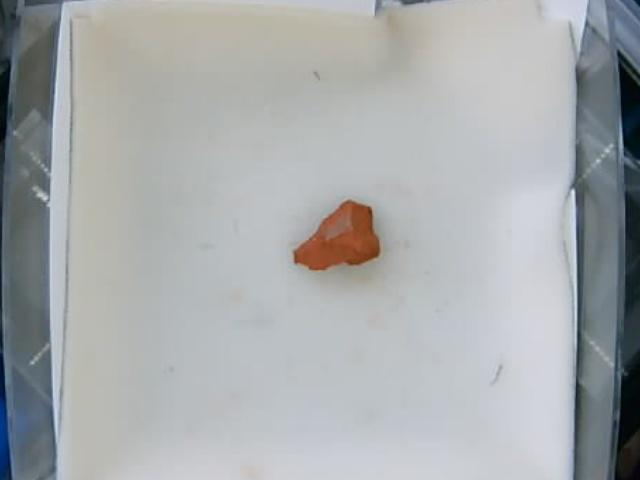Brisk: (291, 200, 382, 270)
